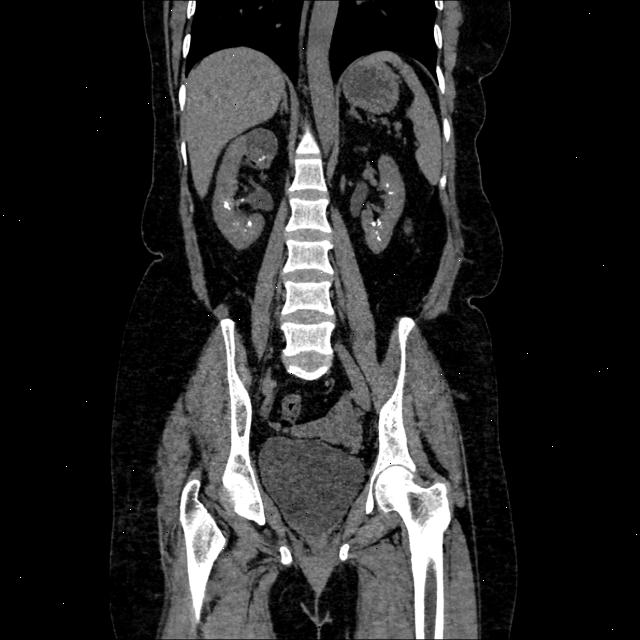kidneystone: (384, 176, 395, 194), (371, 219, 381, 227), (246, 219, 252, 227), (376, 233, 381, 241)
